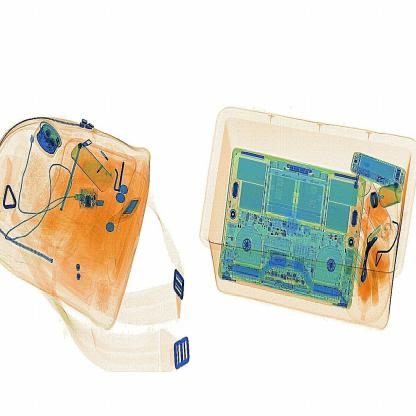pliers: (108, 188, 149, 230)
